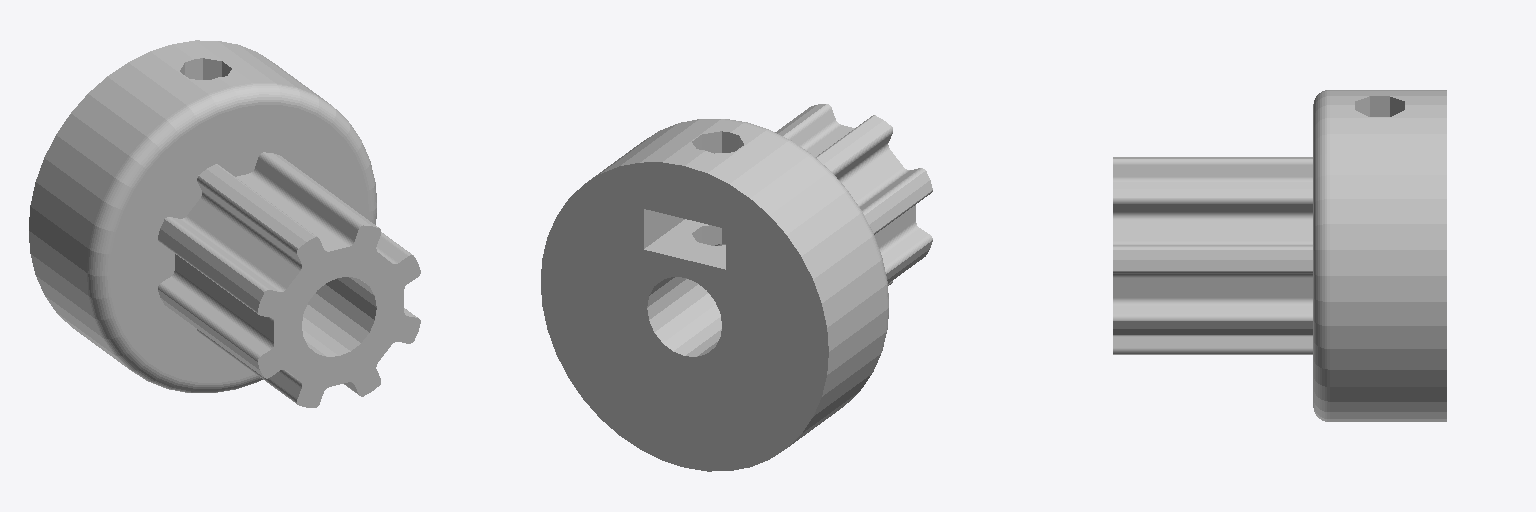
The model's file is gear.obj.
3 views of the same model, side by side, from view 1: azimuth 30°, elevation 25°; view 2: azimuth 150°, elevation 25°; view 3: azimuth 270°, elevation 25° (orthographic).
Visible parts, largest first — view 1: T5-8T-OD11.88; view 2: T5-8T-OD11.88; view 3: T5-8T-OD11.88.
Part boxes in pixels (bbox=[...]): T5-8T-OD11.88: bbox=[29, 40, 420, 407]; T5-8T-OD11.88: bbox=[541, 104, 932, 471]; T5-8T-OD11.88: bbox=[1113, 90, 1446, 421].
Size of the model in its own units: 2.63 by 2.63 by 2.63.